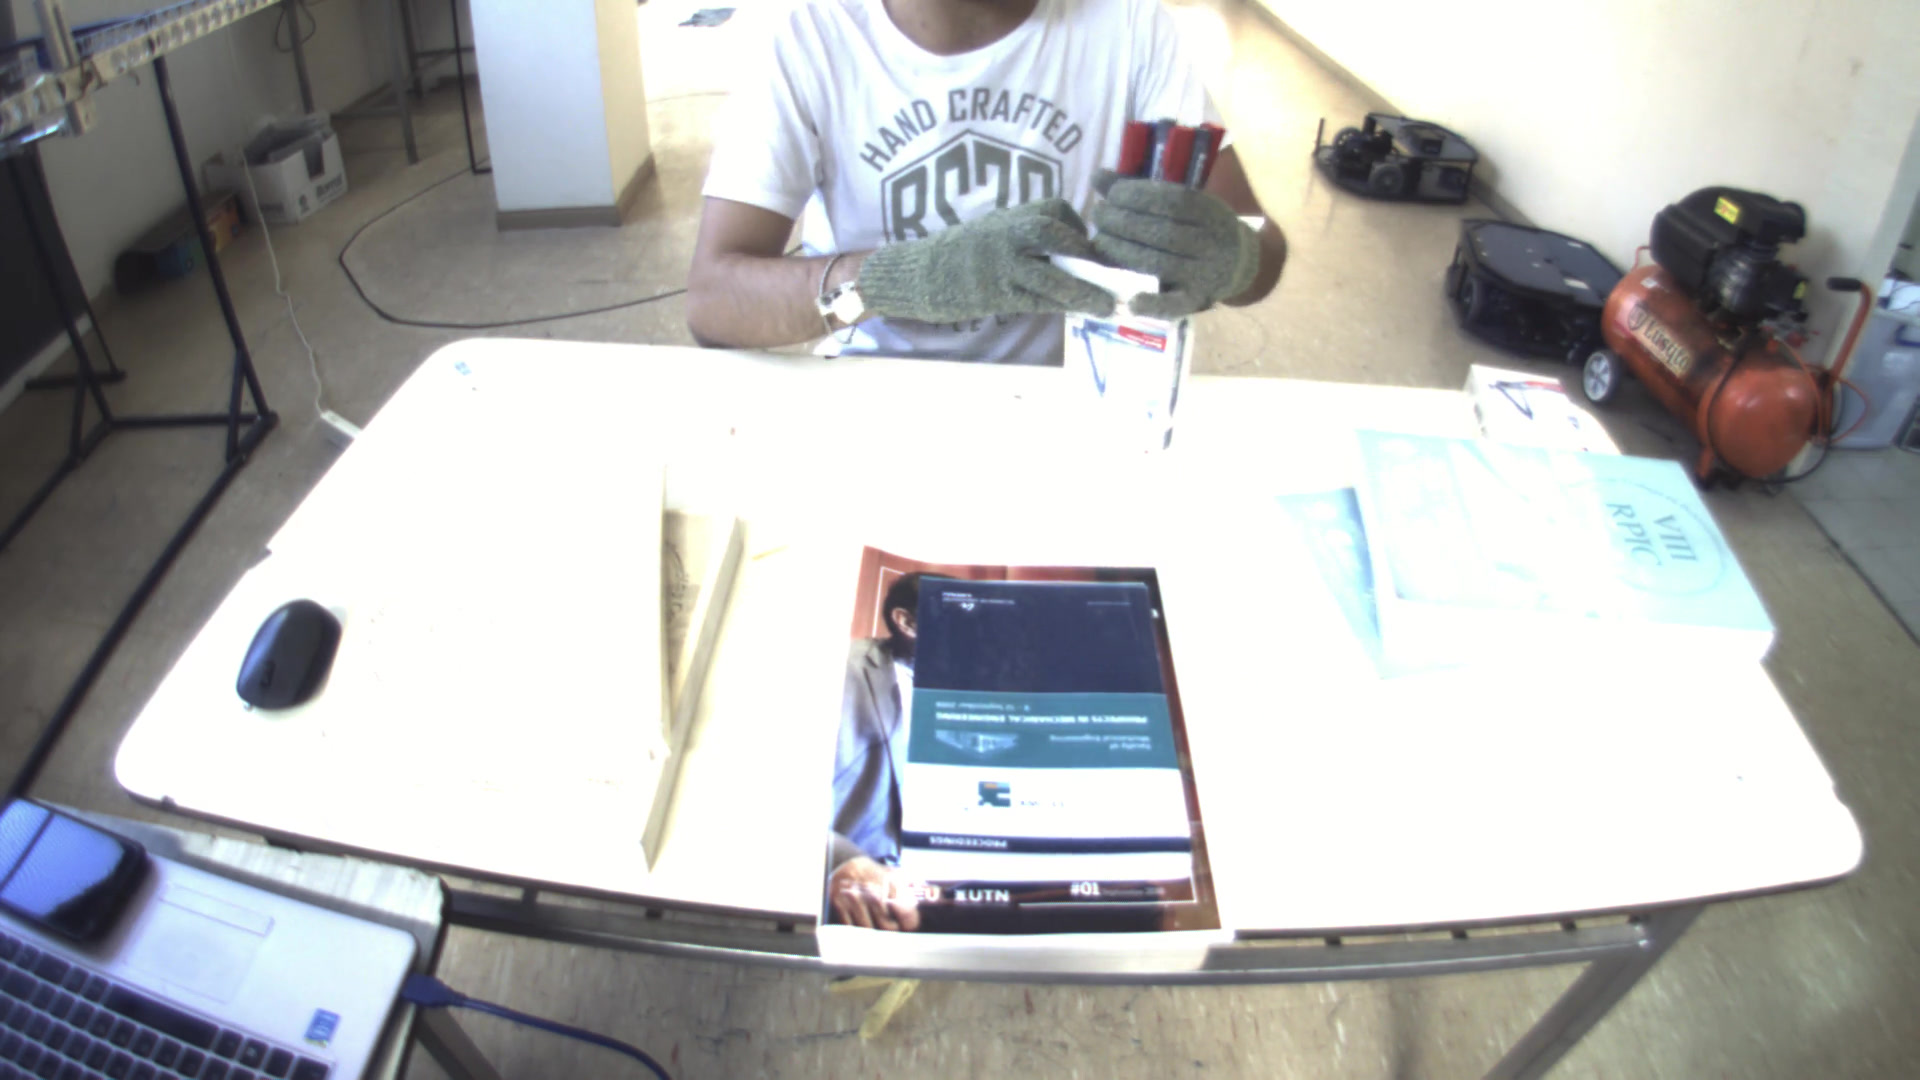hand: (833, 182, 1124, 326), (1091, 173, 1278, 334)
